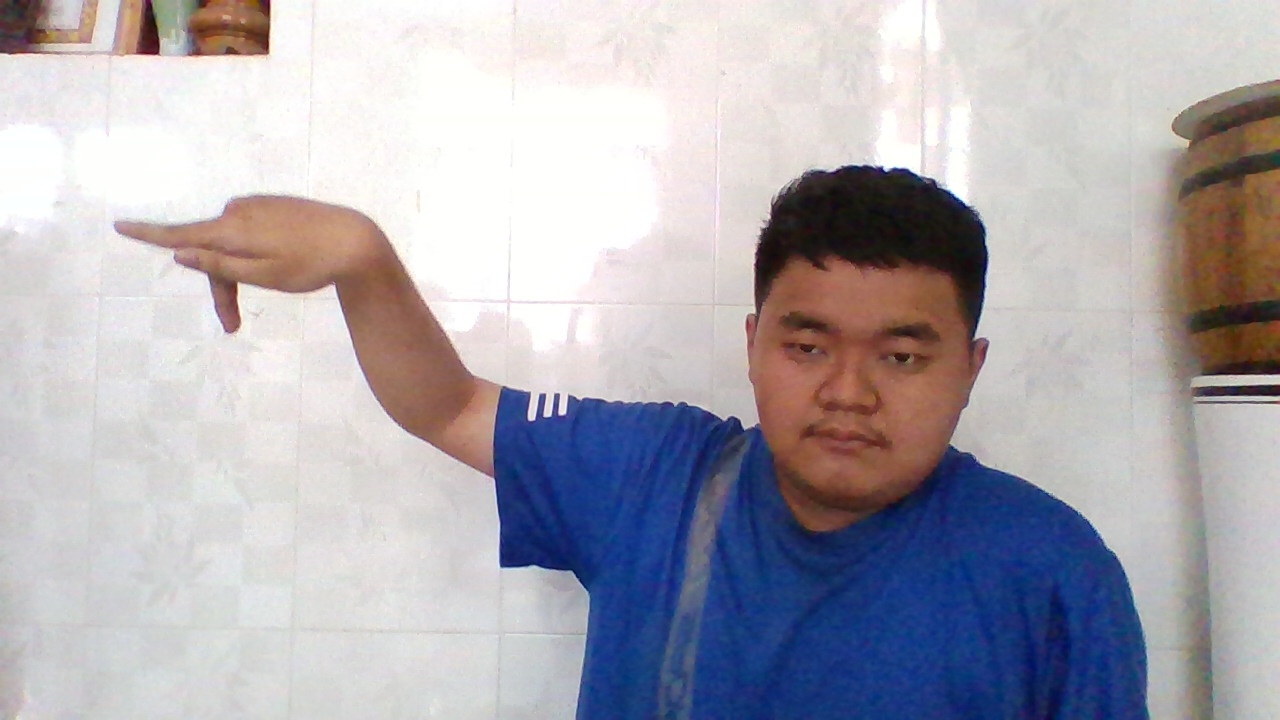P: (101, 187, 379, 335)
